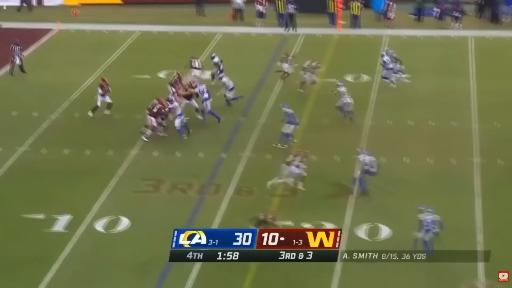Helmet: (420, 204, 431, 214), (100, 78, 108, 85), (168, 96, 175, 104), (192, 82, 199, 89), (281, 103, 290, 108), (337, 81, 344, 87), (175, 71, 183, 76), (162, 102, 169, 107), (188, 81, 195, 86), (219, 74, 225, 79), (156, 97, 163, 101), (211, 54, 216, 59), (357, 149, 362, 154), (193, 55, 198, 60), (287, 52, 291, 55)
Jersey: (359, 154, 378, 173), (148, 105, 168, 118), (283, 109, 299, 125), (195, 84, 210, 101), (169, 102, 183, 117), (221, 76, 234, 91), (336, 86, 349, 101), (212, 57, 223, 74), (98, 83, 111, 97), (182, 87, 194, 102), (381, 55, 392, 69), (190, 58, 202, 70), (280, 55, 293, 65), (170, 78, 181, 89)
Player: (267, 151, 308, 190), (415, 207, 442, 252), (353, 149, 379, 194), (191, 83, 221, 122), (142, 99, 169, 141), (274, 104, 299, 148), (88, 78, 113, 117), (267, 163, 306, 188), (177, 83, 203, 119), (168, 98, 191, 138), (219, 75, 243, 106), (299, 61, 321, 91), (385, 49, 405, 77), (381, 53, 396, 87), (276, 53, 294, 80), (334, 82, 349, 113), (255, 212, 279, 228), (211, 54, 224, 82), (341, 96, 354, 121), (190, 57, 203, 80), (168, 72, 184, 90), (334, 82, 348, 99)
